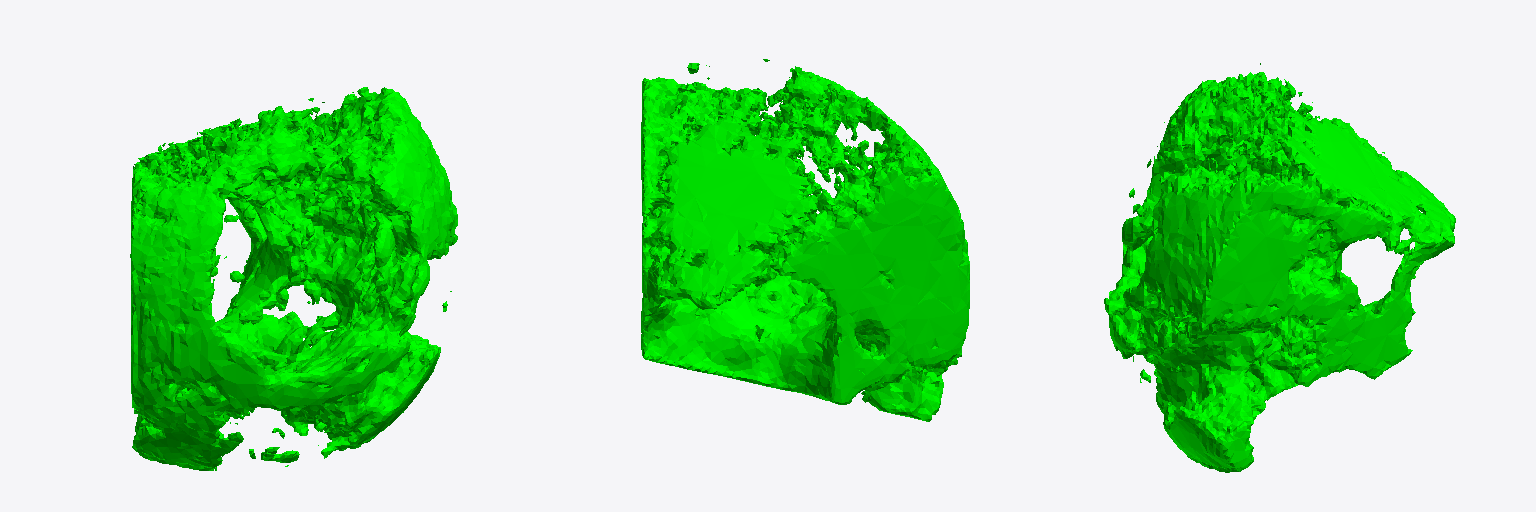
Rendered from B939XXXX-1_base_41.obj.
The picture shows the model from 3 angles: view 1: azimuth 30°, elevation 25°; view 2: azimuth 150°, elevation 25°; view 3: azimuth 270°, elevation 25°; orthographic projection.
Parts seen in each view (by area): view 1: 41_base; view 2: 41_base; view 3: 41_base.
Part boxes in pixels (x1,y1,x2,y2): 41_base: (130, 87, 457, 470); 41_base: (641, 59, 969, 421); 41_base: (1104, 63, 1455, 472).
Bounding box in the file's own units: 219 × 218 × 205.